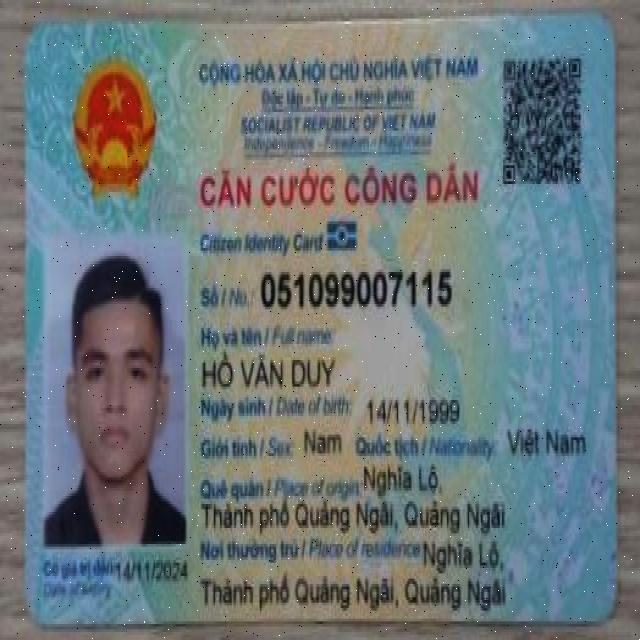current_place: (196, 572, 511, 617), (419, 529, 506, 574)
dob: (367, 393, 468, 433)
expire_date: (115, 559, 191, 586)
gender: (299, 421, 342, 461)
id: (262, 268, 458, 310)
name: (201, 347, 339, 389)
nationality: (507, 420, 589, 465)
origin_place: (200, 498, 509, 538), (362, 458, 445, 498)
